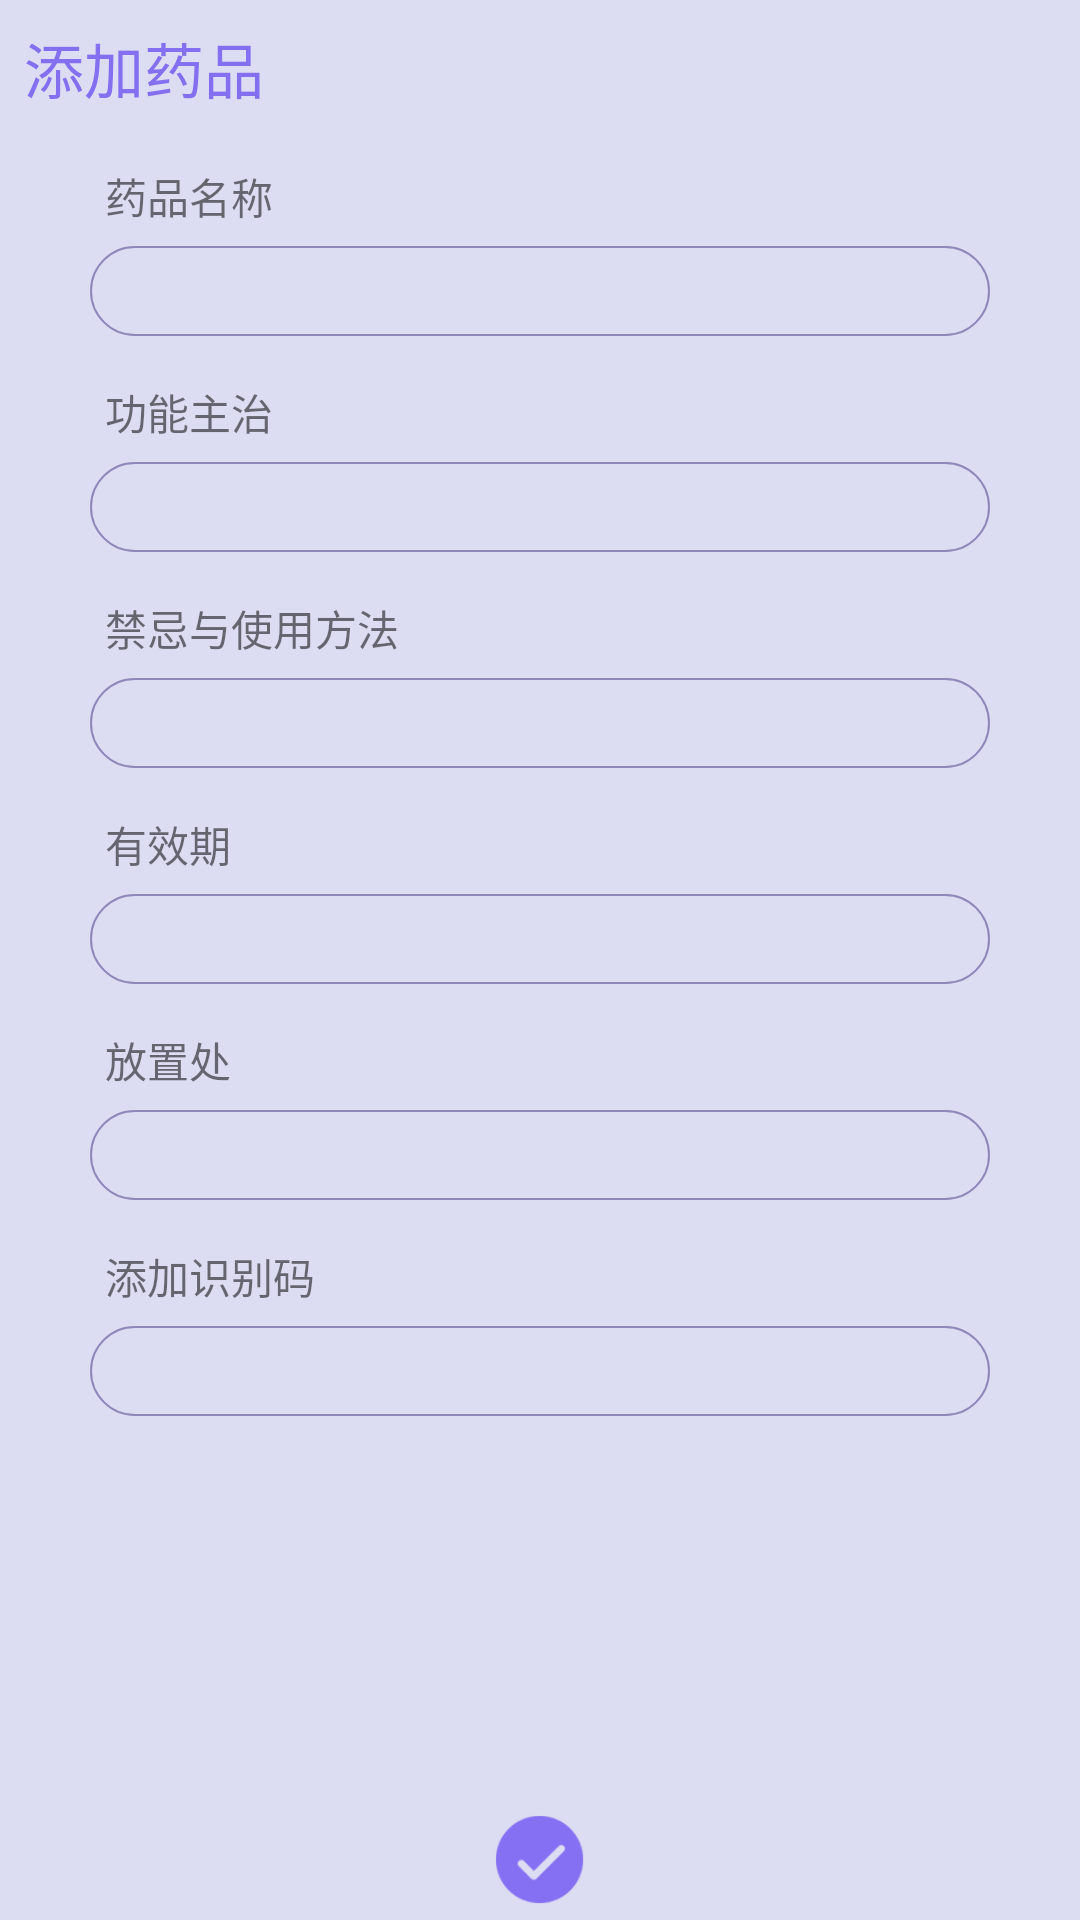

Screen size 1080 x 1920. Icon name, then its center in pixels as (x=x, y=y):
finish: (x=539, y=1859)
